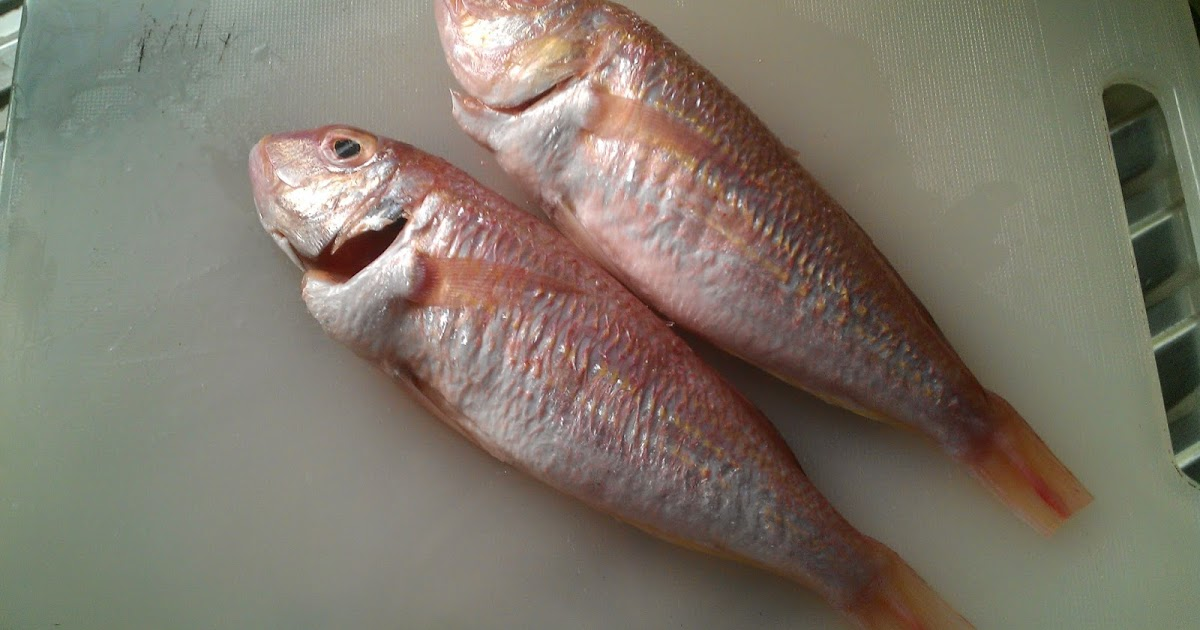Ikan Kerisi: (208, 123, 1046, 617), (429, 10, 1136, 481)
